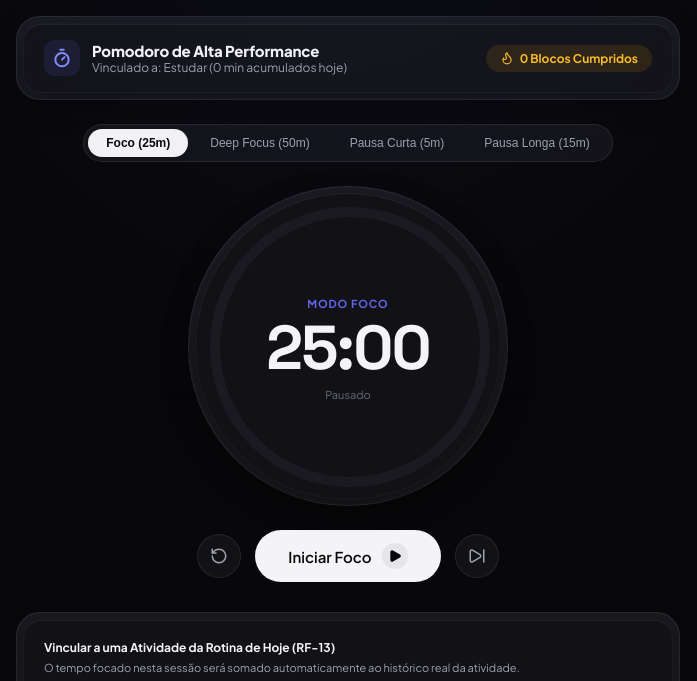
Test: mostra andamento ao iniciar um Pomodoro vinculado à atividade
Click the button "Iniciar Foco" at point(348, 556), box x1=255 y1=530 x2=441 y2=582
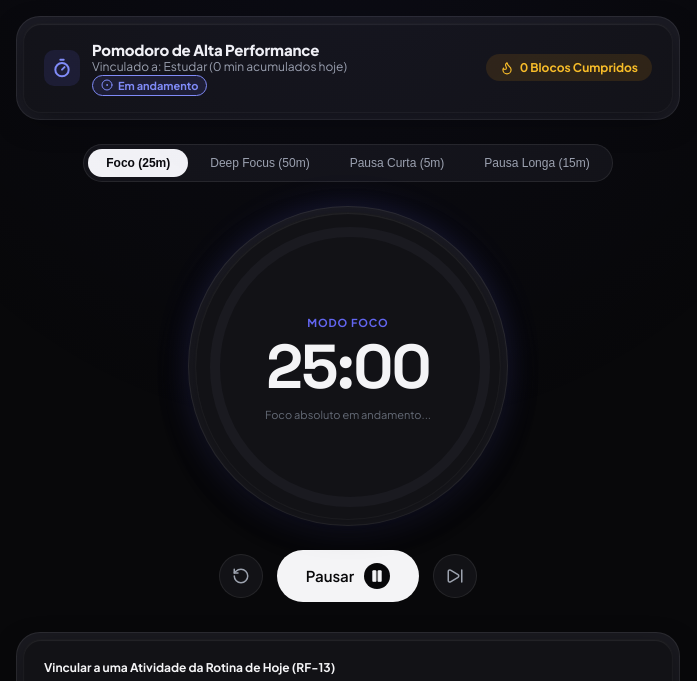
expect the text "Em andamento" is shown: met, box x1=92 y1=74 x2=207 y2=96
